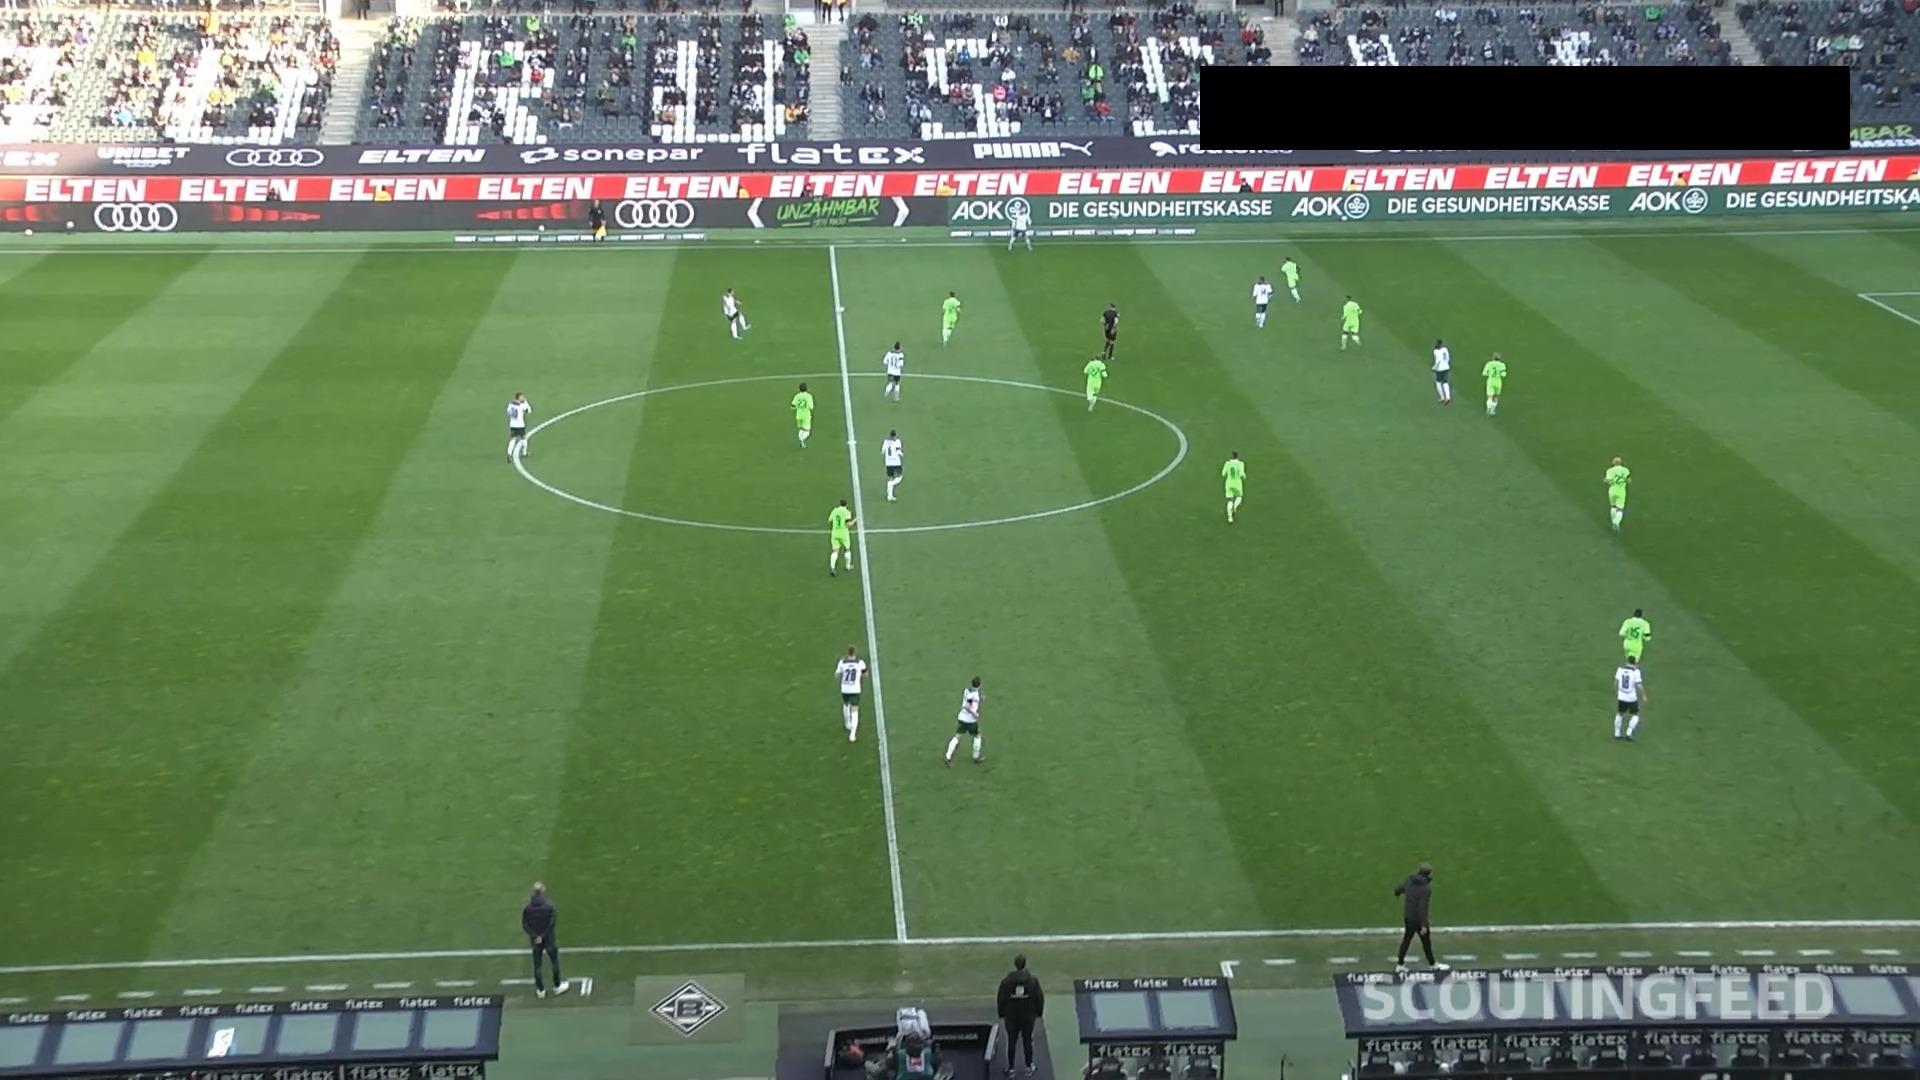coach: (520, 880, 570, 998), (1392, 861, 1438, 968)
player: (942, 675, 985, 767), (834, 644, 867, 742), (1612, 653, 1645, 739), (826, 497, 855, 575), (1617, 606, 1651, 667), (1603, 454, 1630, 529), (1220, 448, 1246, 524), (504, 391, 531, 463), (880, 428, 904, 502), (788, 381, 814, 448), (1480, 350, 1506, 416), (1082, 352, 1108, 411), (1429, 338, 1452, 404), (1005, 198, 1033, 252), (721, 287, 748, 339), (1338, 293, 1362, 351), (881, 340, 904, 400), (939, 289, 961, 346), (1250, 275, 1273, 328), (1279, 256, 1302, 303)
referee: (995, 953, 1044, 1076), (1099, 302, 1119, 361), (586, 198, 607, 242)
